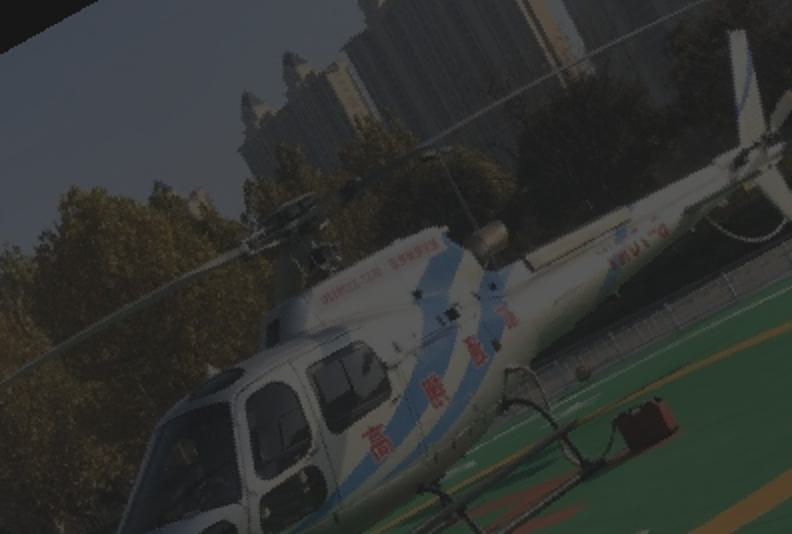Apron: (350, 331, 792, 534)
